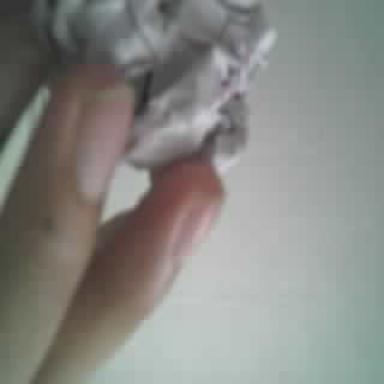paper: (34, 0, 276, 171)
